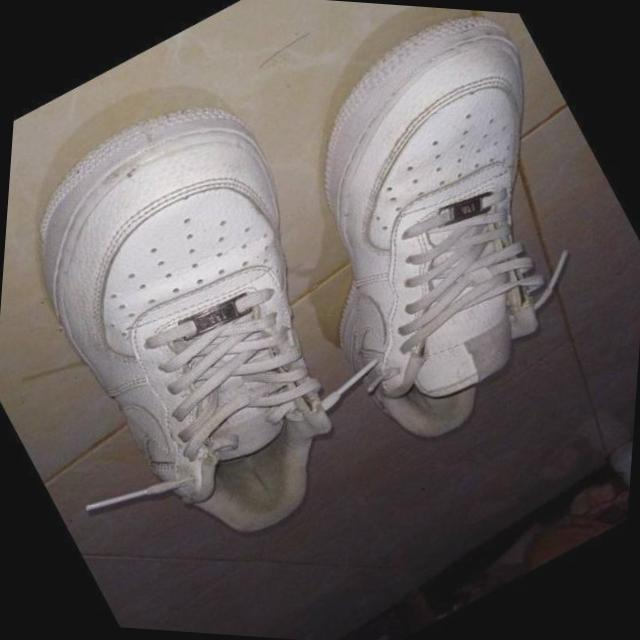nike_fake_airforce: (0, 61, 450, 590), (196, 0, 640, 481)
